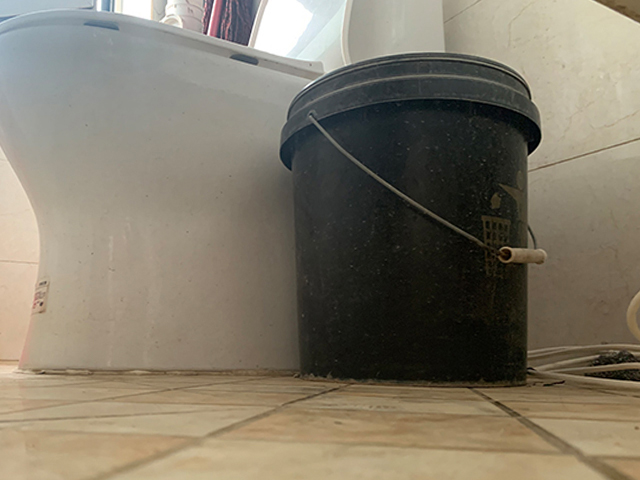closestool: (1, 1, 441, 372)
wire: (528, 342, 640, 394)
